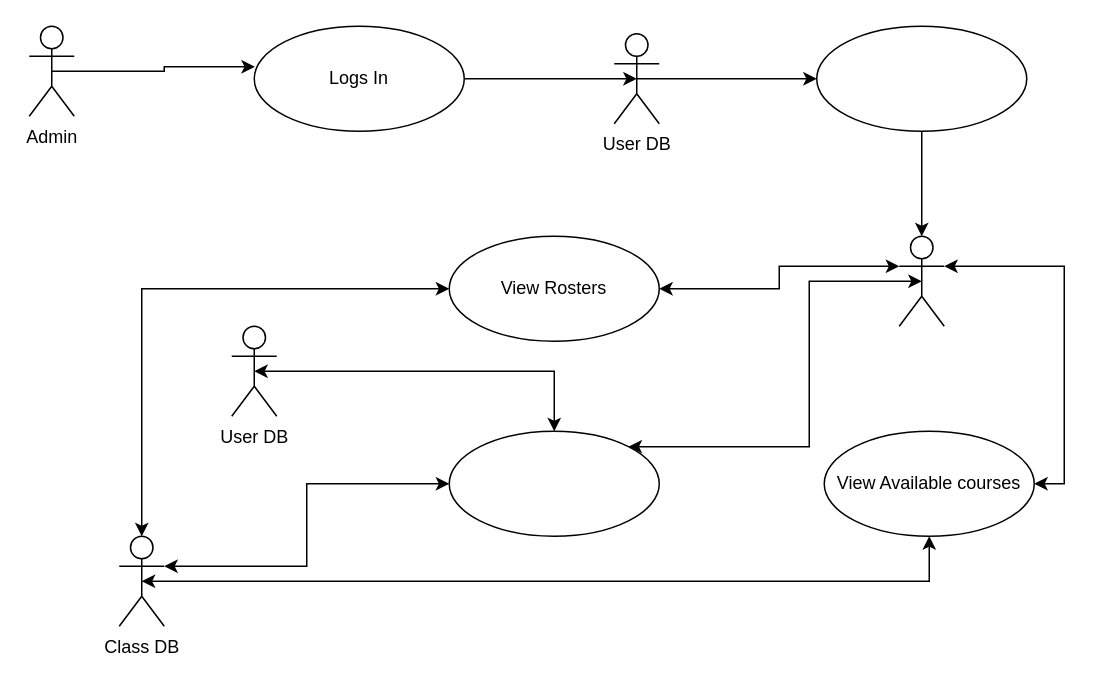
This 1104x684 diagram has some shape labels left out. The shapes that lost their labels are listed below. From the top down, each one's centre as x and y in pixels, then its label:
(921,78): Validates User
(921,280): CURSE (Main Menu)
(553,483): Edit Students
